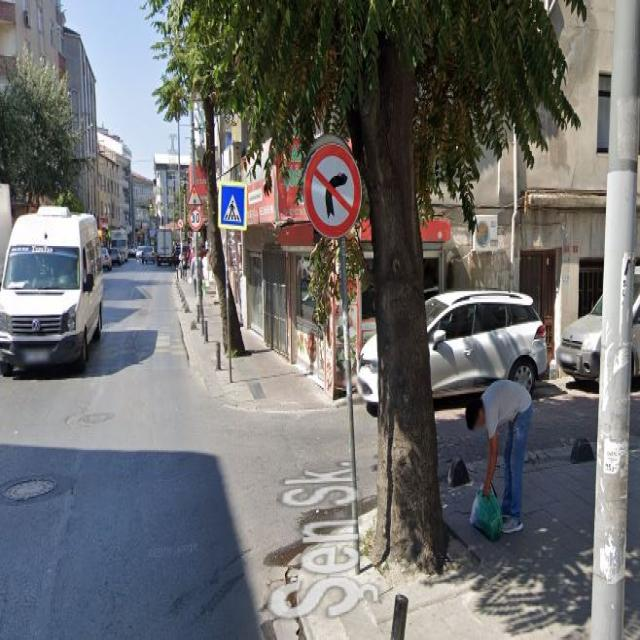30: (189, 209, 201, 229)
sagadonulmez: (304, 143, 361, 237)
